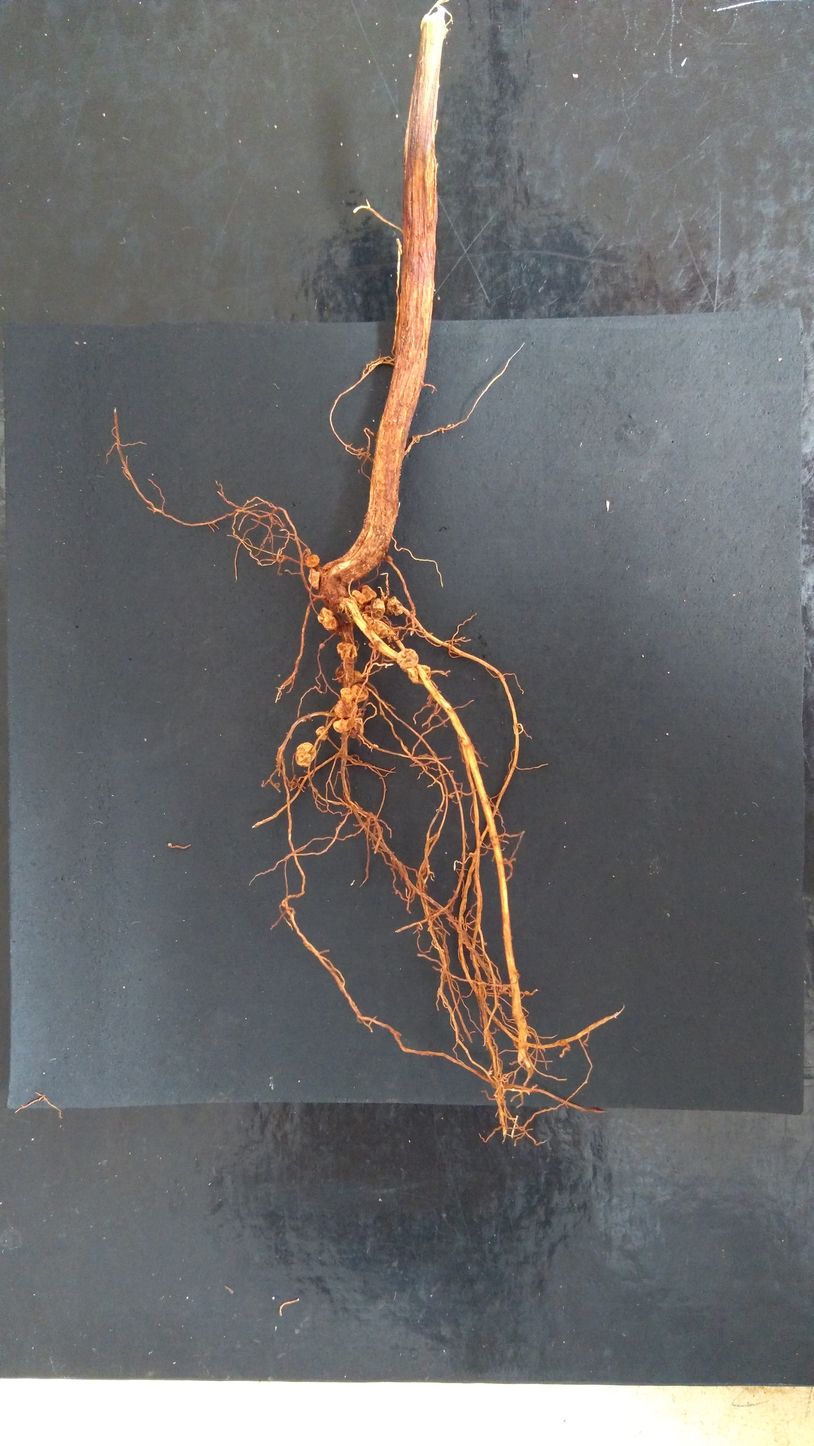nodule: (336, 597, 356, 624), (317, 607, 339, 631), (295, 742, 316, 767), (406, 664, 430, 684), (365, 597, 385, 620), (372, 619, 396, 638), (334, 699, 358, 718), (397, 649, 419, 668), (350, 590, 368, 612), (337, 642, 357, 660), (385, 596, 403, 616), (351, 683, 369, 703), (333, 718, 354, 733), (336, 671, 362, 683), (361, 584, 377, 603), (308, 568, 320, 590), (340, 688, 353, 702), (305, 555, 319, 567), (315, 726, 326, 740), (361, 613, 373, 625), (354, 720, 364, 734), (347, 727, 357, 739), (385, 555, 393, 563), (499, 986, 507, 992), (560, 1039, 566, 1046), (319, 643, 325, 649), (508, 993, 512, 997), (524, 991, 529, 994)
